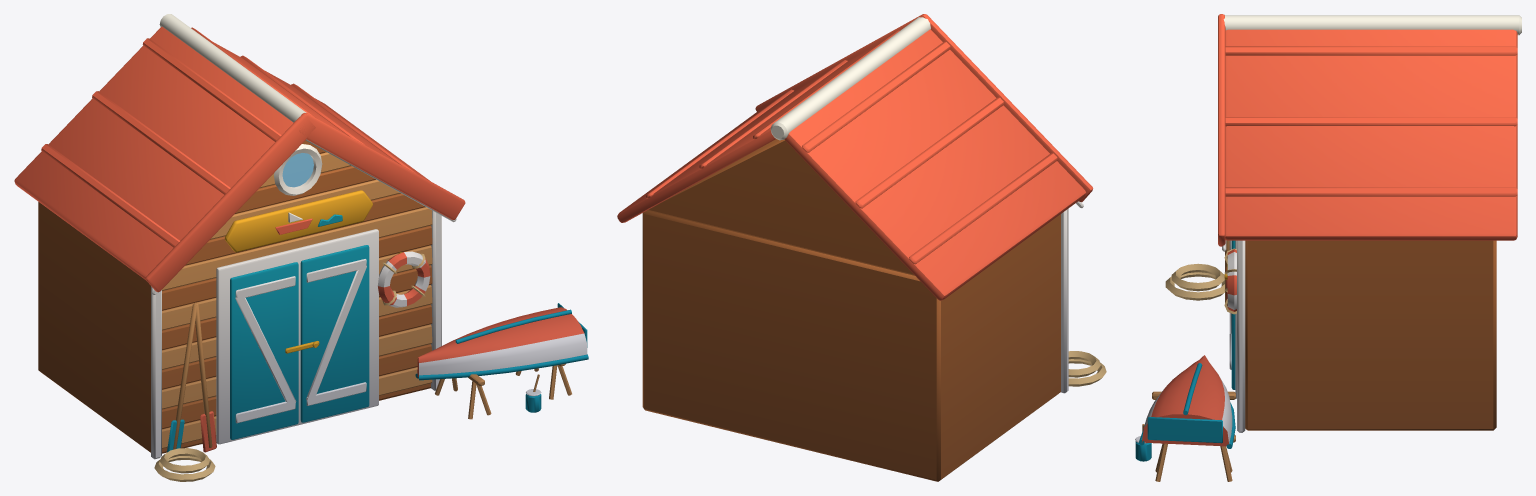
The model's file is boat_shed.glb.
3 views of the same model, side by side, from view 1: azimuth 30°, elevation 25°; view 2: azimuth 150°, elevation 25°; view 3: azimuth 270°, elevation 25° (orthographic). The views are drawn at different scales.
Parts seen in each view (by area): view 1: boat_shed; view 2: boat_shed; view 3: boat_shed.
Boxes of the visible parts, left/top/right/bottom form: boat_shed: left=14, top=14, right=588, bottom=481; boat_shed: left=617, top=14, right=1106, bottom=481; boat_shed: left=1135, top=14, right=1521, bottom=481.
Size of the model in its own units: 6.14 by 4.51 by 4.6.
